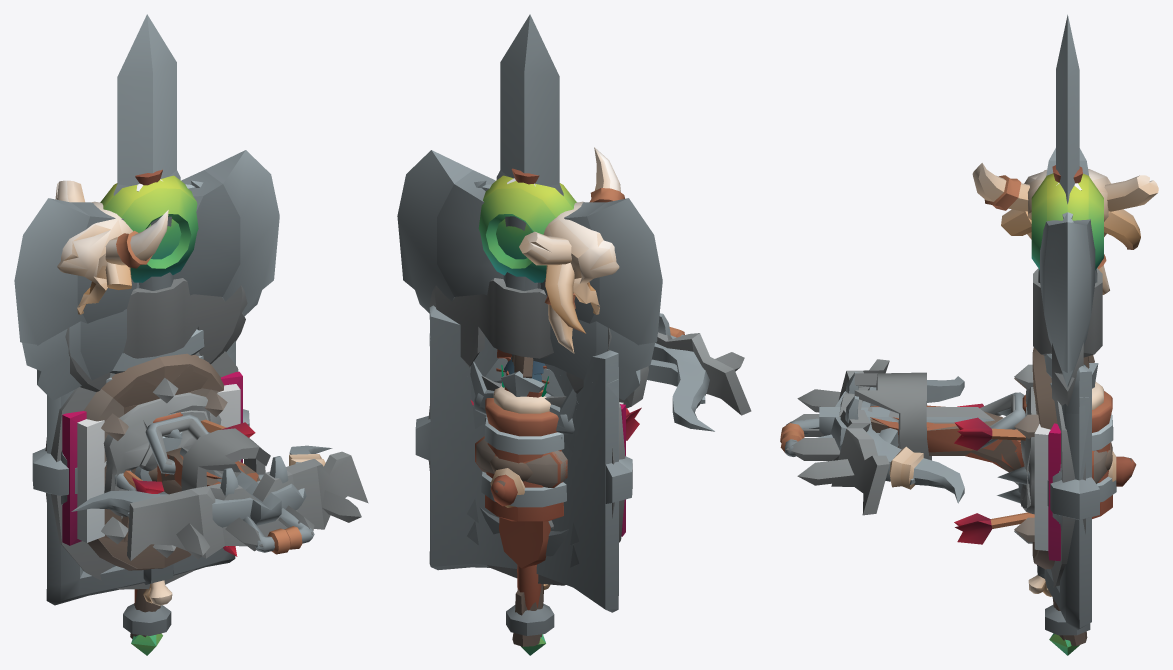
File: gear.glb
3 views of the same model, side by side, from view 1: azimuth 30°, elevation 25°; view 2: azimuth 150°, elevation 25°; view 3: azimuth 270°, elevation 25° (orthographic).
Parts seen in each view (by area): view 1: axe_2handed, Skeleton_Crossbow, Skeleton_Shield_Large_B, sword_2handed, Skeleton_Shield_Large_A, Skeleton_Axe, staff, crossbow_2handed, Skeleton_Staff, spellbook_open, shield_square, axe_1handed (+3 smaller); view 2: shield_square, axe_2handed, sword_2handed, Skeleton_Staff, staff, Skeleton_Axe, mug_full, axe_1handed, crossbow_2handed, Skeleton_Crossbow, shield_spikes, quiver (+7 smaller); view 3: Skeleton_Crossbow, crossbow_2handed, axe_2handed, Skeleton_Staff, staff, shield_square, Skeleton_Shield_Large_B, shield_spikes, sword_2handed, spellbook_open, Skeleton_Axe, Skeleton_Shield_Large_A (+3 smaller).
Boxes of the visible parts, left/top/right/bottom form: axe_2handed: left=14, top=150, right=279, bottom=345; Skeleton_Crossbow: left=127, top=418, right=368, bottom=561; Skeleton_Shield_Large_B: left=46, top=351, right=238, bottom=587; sword_2handed: left=117, top=14, right=176, bottom=185; Skeleton_Shield_Large_A: left=45, top=365, right=221, bottom=589; Skeleton_Axe: left=65, top=278, right=247, bottom=391; staff: left=100, top=175, right=203, bottom=655; crossbow_2handed: left=71, top=414, right=332, bottom=554; Skeleton_Staff: left=55, top=180, right=172, bottom=638; spellbook_open: left=62, top=371, right=242, bottom=545; shield_square: left=46, top=329, right=235, bottom=605; axe_1handed: left=22, top=282, right=139, bottom=400; shield_square: left=429, top=305, right=618, bottom=612; axe_2handed: left=397, top=150, right=662, bottom=382; sword_2handed: left=470, top=14, right=576, bottom=427; Skeleton_Staff: left=512, top=147, right=624, bottom=646; staff: left=474, top=175, right=576, bottom=655; Skeleton_Axe: left=429, top=278, right=611, bottom=397; mug_full: left=481, top=386, right=566, bottom=521; axe_1handed: left=511, top=282, right=654, bottom=400; crossbow_2handed: left=490, top=313, right=714, bottom=505; Skeleton_Crossbow: left=495, top=332, right=751, bottom=492; shield_spikes: left=415, top=333, right=632, bottom=563; quiver: left=499, top=365, right=550, bottom=568; Skeleton_Crossbow: left=786, top=359, right=1131, bottom=515; crossbow_2handed: left=780, top=372, right=1136, bottom=503; axe_2handed: left=1038, top=148, right=1097, bottom=387; Skeleton_Staff: left=972, top=163, right=1158, bottom=645; staff: left=1031, top=173, right=1103, bottom=655; shield_square: left=1044, top=354, right=1091, bottom=630; Skeleton_Shield_Large_B: left=1014, top=347, right=1107, bottom=585; shield_spikes: left=997, top=397, right=1099, bottom=578; sword_2handed: left=1056, top=14, right=1098, bottom=388; spellbook_open: left=1034, top=423, right=1060, bottom=560; Skeleton_Axe: left=1033, top=268, right=1102, bottom=406; Skeleton_Shield_Large_A: left=1020, top=354, right=1108, bottom=587.
Bounding box in the file's own units: 1.24 × 2.86 × 1.53.
5 materials, 5 textured.
